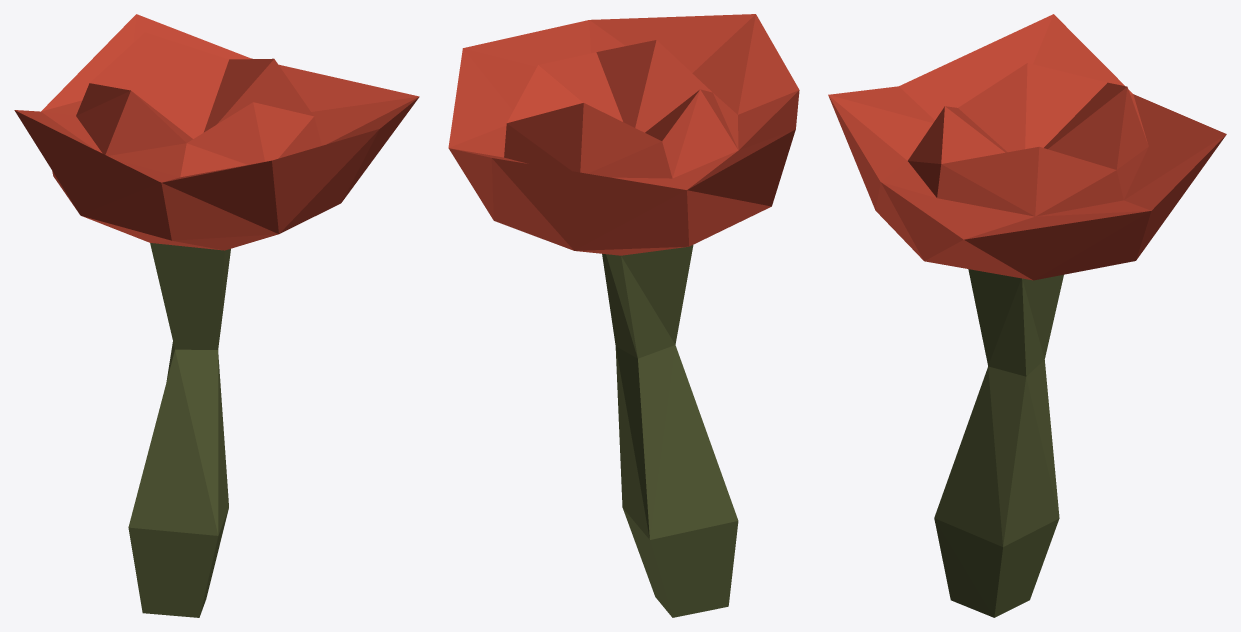
File: SM_Env_Flower_01.glb
The picture shows the model from 3 angles, left to right: view 1: azimuth 30°, elevation 25°; view 2: azimuth 150°, elevation 25°; view 3: azimuth 270°, elevation 25°; orthographic projection. The views are drawn at different scales.
Visible parts, largest first — view 1: SM_Env_Flower_01.001; view 2: SM_Env_Flower_01.001; view 3: SM_Env_Flower_01.001.
Part boxes in pixels (x1,y1,x2,y2): SM_Env_Flower_01.001: (14,14,419,617); SM_Env_Flower_01.001: (448,14,799,617); SM_Env_Flower_01.001: (828,14,1226,617).
Size of the model in its own units: 2.34 by 3.21 by 2.18.
Materials: 1 (1 with a texture image).
